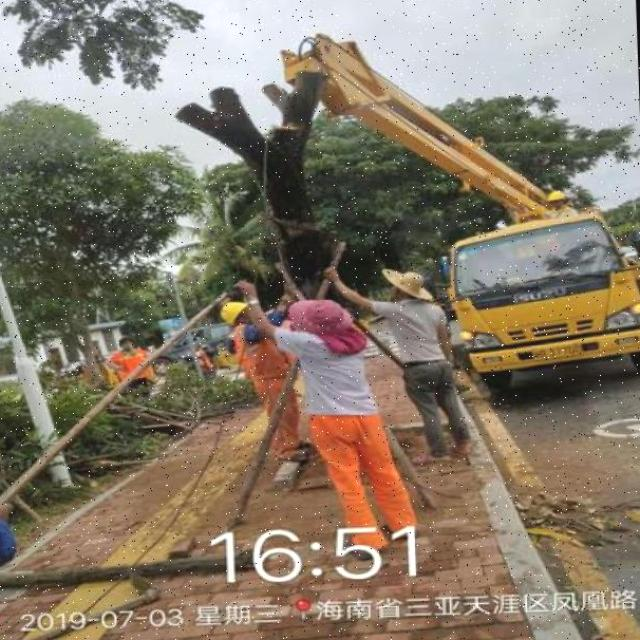fallen_object: (0, 558, 231, 589)
